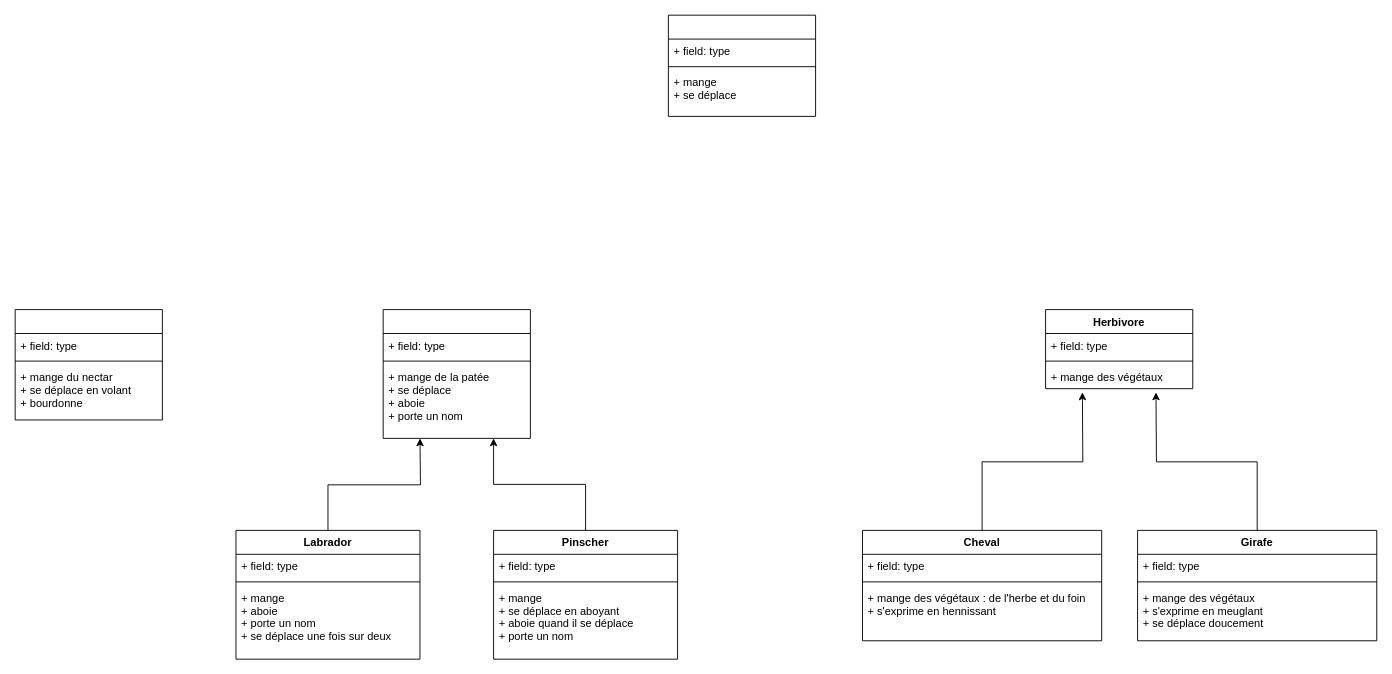
Some shapes in this 1392 by 674 pixel diagram are drawn without their labels. The box of each missing label's shape, as (x1, y1, x2, y2) in pixels:
Abeille: (14, 309, 162, 420)
Animal: (667, 14, 816, 116)
Chien: (382, 309, 530, 438)
